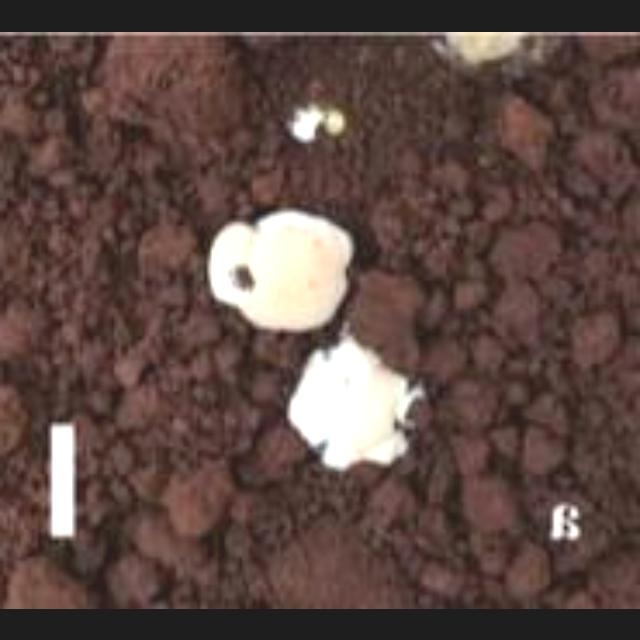primordium: (285, 324, 430, 476), (205, 207, 357, 335)
